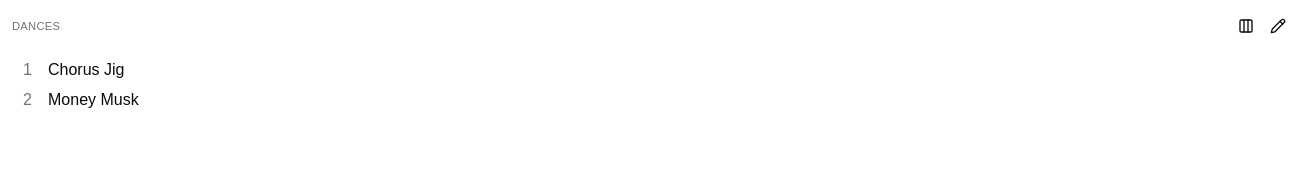
ProgramDanceLineup › edit mode › stays in edit mode on Escape while an actual editable element has focus, not just any focused button
This screenshot has width=1304, height=172.
Click the button named "Edit dances".
click(1278, 26)  # box [1264, 12, 1292, 40]
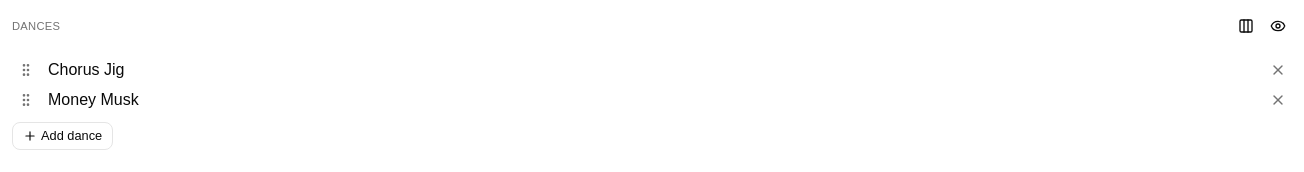
Check: the button named "Done editing dances" is shown, box [1264, 12, 1292, 40]
